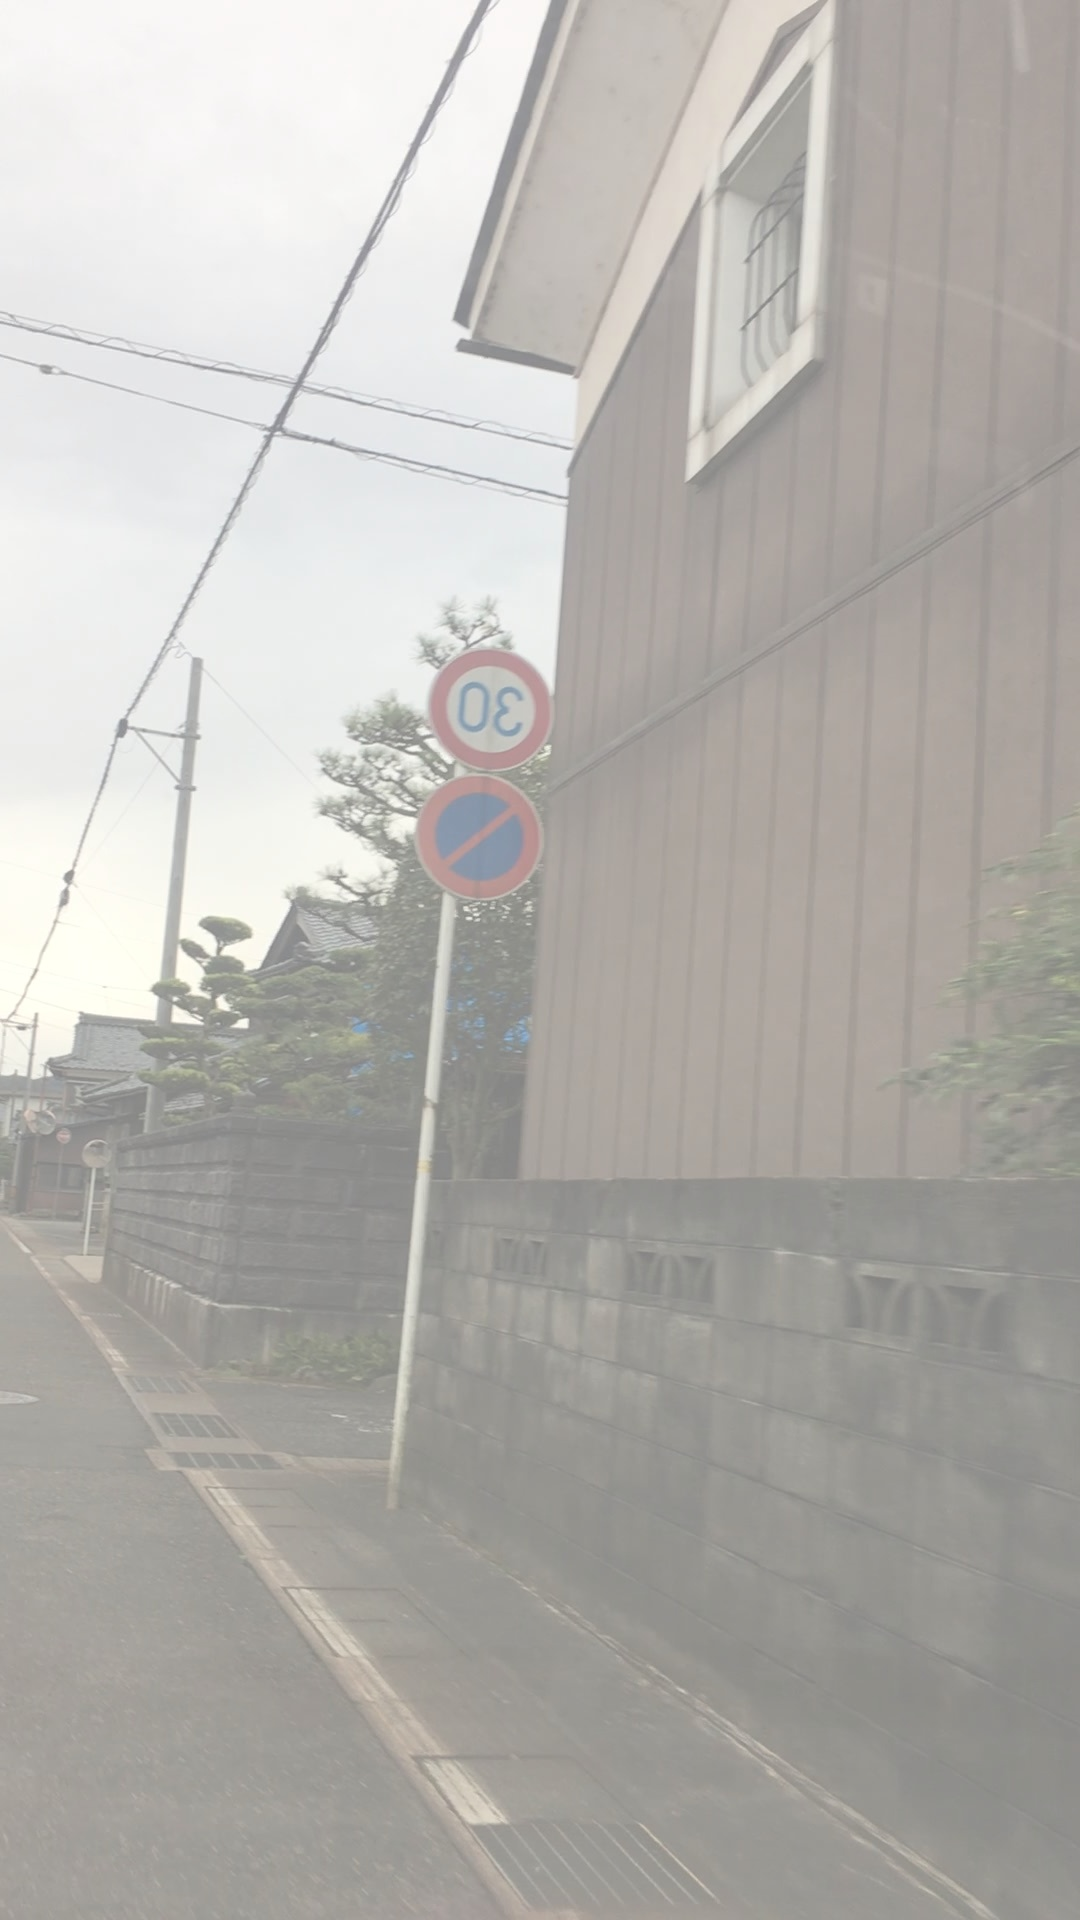Prohibition_sign: (402, 771, 553, 916)
Speed_sign: (426, 642, 562, 778)
